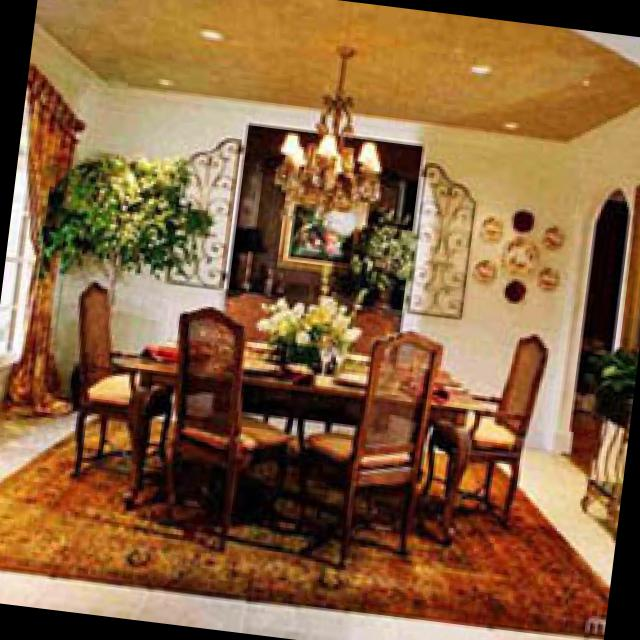2001: (1, 98, 68, 354)
bouquet: (262, 296, 367, 376)
ceiling beam: (37, 0, 640, 141)
ceiling lamps: (279, 43, 387, 214)
chair -occluded-: (297, 330, 446, 563), (171, 305, 294, 545), (78, 277, 171, 476), (457, 333, 551, 523)
curtain crop: (9, 63, 85, 417)
door bars: (569, 188, 633, 472)
hanging plate: (503, 236, 545, 273), (480, 212, 502, 246), (545, 221, 571, 246), (507, 276, 530, 303), (475, 255, 499, 279), (514, 209, 536, 229), (543, 266, 562, 288)
painting crop: (224, 123, 428, 320), (280, 198, 359, 270)
plant -x: (42, 156, 217, 283), (352, 218, 426, 302), (592, 344, 639, 428)
plate food: (332, 365, 364, 388), (244, 351, 272, 368)
rug -partially obscured-: (0, 414, 607, 632)
table -X: (110, 335, 495, 543)
